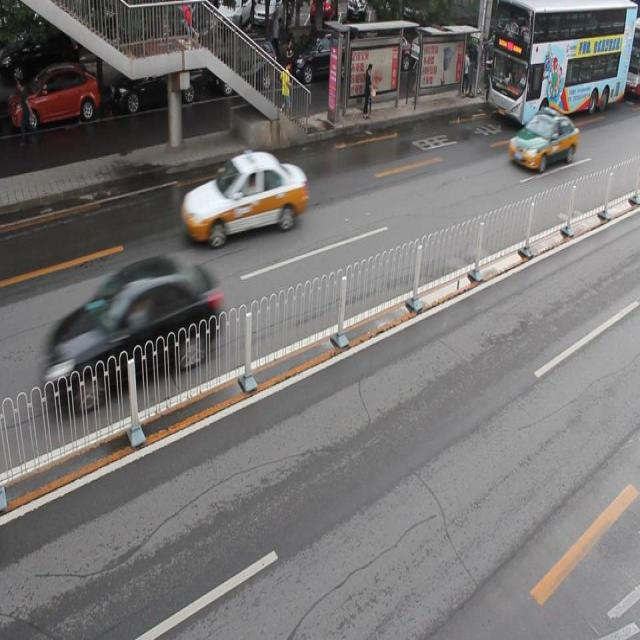car: (47, 255, 215, 408), (182, 148, 309, 244), (108, 47, 200, 114), (10, 68, 98, 132), (508, 107, 576, 172), (208, 36, 276, 99), (283, 29, 352, 88)
van: (485, 1, 632, 127)
